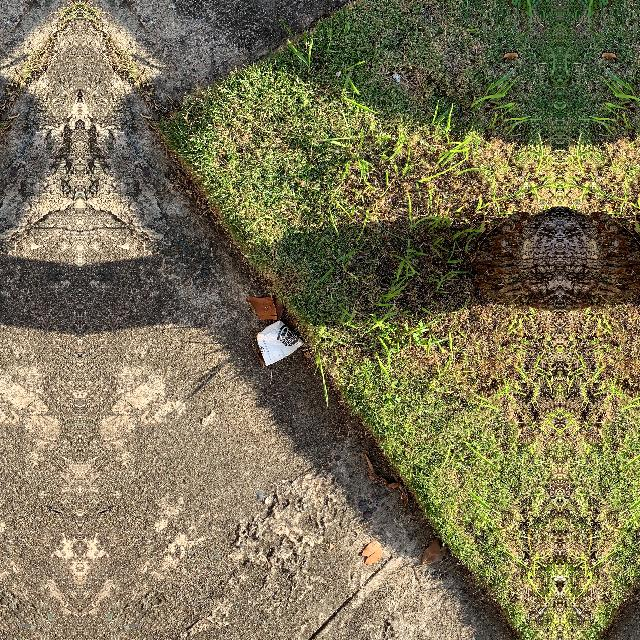Paper: (255, 318, 305, 366)
